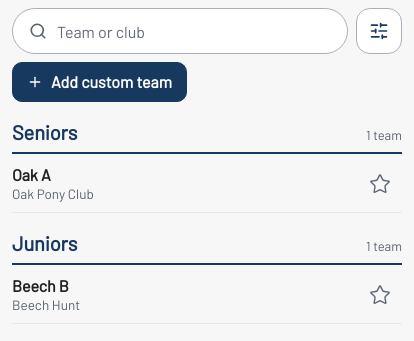
Test: TeamsTab list › has a round search bar that filters by team or club, and no followed-teams button
The width and height of the screenshot is (414, 341).
Expected: the link "Oak A" is shown, [12,165,50,184]
Expected: the link "Beech B" is shown, [12,276,69,295]
Step 1. Type "beech" into the search field named "Find a team or club" → (194, 31), box [57,9,331,53]
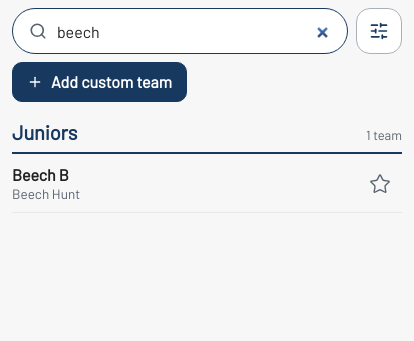
Expected: the link "Beech B" is shown, [12,165,69,184]
Expected: the link "Oak A" is gone
Step 2. Replace the text in the search field named "Find a team or club" with "oak pony" → (194, 31), box [57,9,331,53]
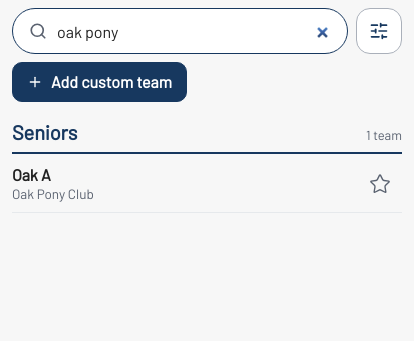
Expected: the link "Beech B" is not shown
Expected: the link "Oak A" is shown, [12,165,50,184]
Step 3. Replace the text in the search field named "Find a team or club" with "zzz" → (194, 31), box [57,9,331,53]
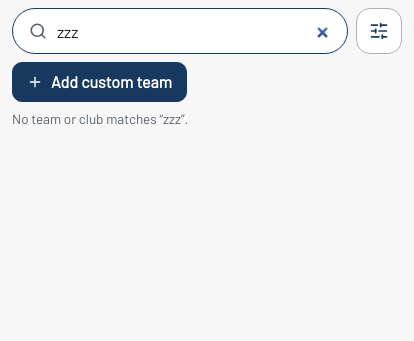
Expected: the text "No team or club matches “zzz”." is shown, [12,110,188,127]
